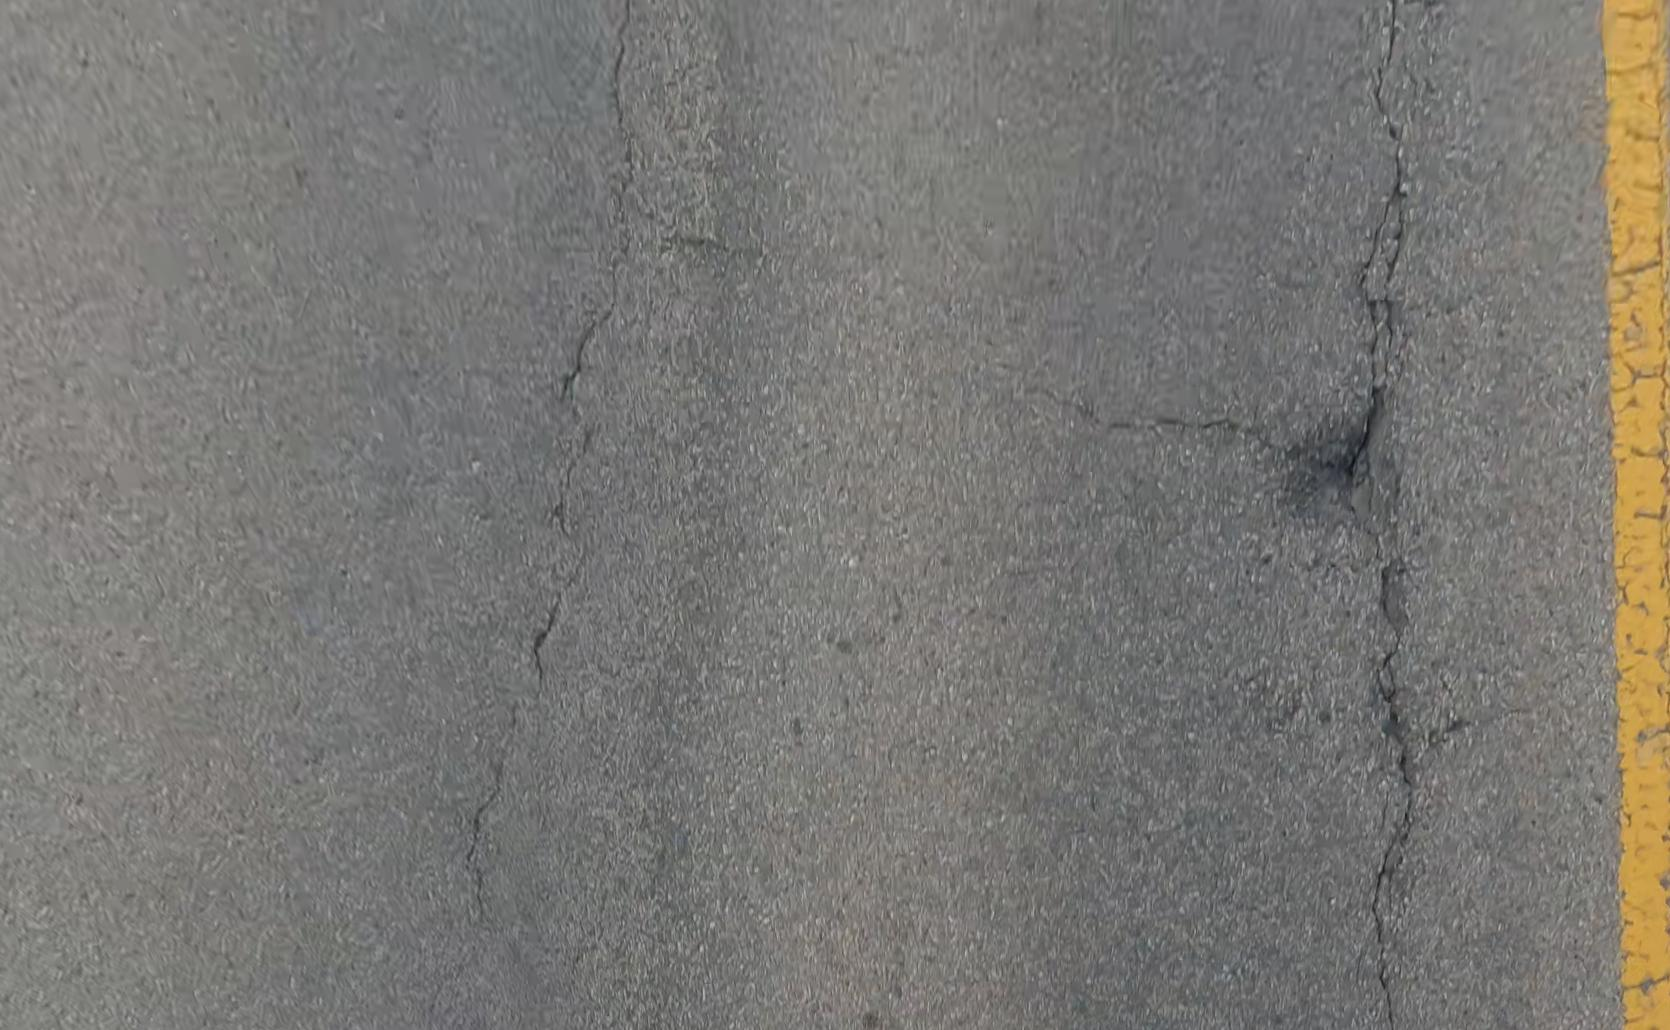pothole: (1293, 402, 1393, 531)
